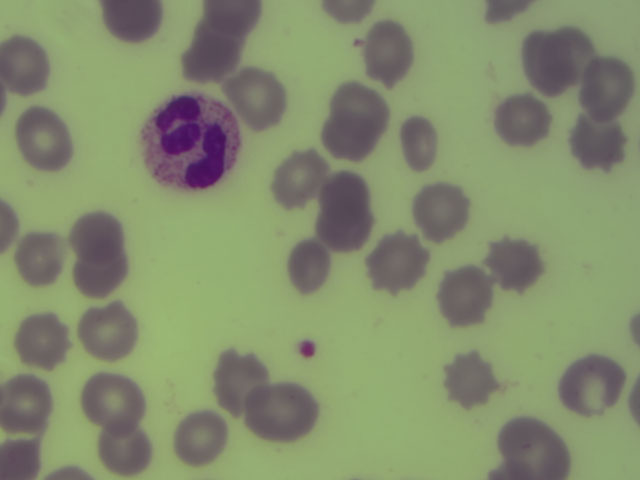Platelets: (300, 340, 312, 356)
RBC: (490, 413, 568, 479), (236, 384, 327, 439), (556, 354, 626, 419), (78, 364, 144, 431), (14, 106, 76, 177), (12, 307, 82, 369), (73, 297, 136, 360), (367, 229, 429, 291), (490, 230, 547, 295), (1, 370, 57, 436), (209, 346, 264, 413), (412, 181, 472, 239), (492, 94, 555, 148), (569, 116, 632, 170), (227, 70, 283, 130), (365, 20, 415, 87), (441, 350, 499, 407), (98, 420, 159, 474), (273, 152, 330, 209), (324, 110, 381, 167), (182, 29, 239, 86), (437, 265, 493, 322), (576, 58, 631, 116), (318, 170, 377, 224), (73, 246, 135, 297), (1, 34, 50, 98), (170, 411, 228, 464), (69, 207, 126, 258), (315, 199, 373, 248), (544, 28, 598, 78), (15, 230, 62, 286), (286, 241, 330, 296), (398, 118, 442, 173), (524, 31, 568, 86), (332, 82, 387, 122), (105, 1, 160, 39), (205, 1, 261, 36), (1, 436, 45, 480), (484, 1, 528, 28), (323, 1, 369, 22), (1, 202, 18, 251)
WBC: (132, 98, 243, 195)
